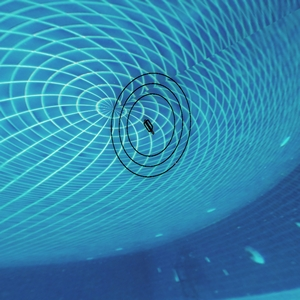circle: (101, 63, 196, 178)
submarine: (144, 120, 151, 131)
